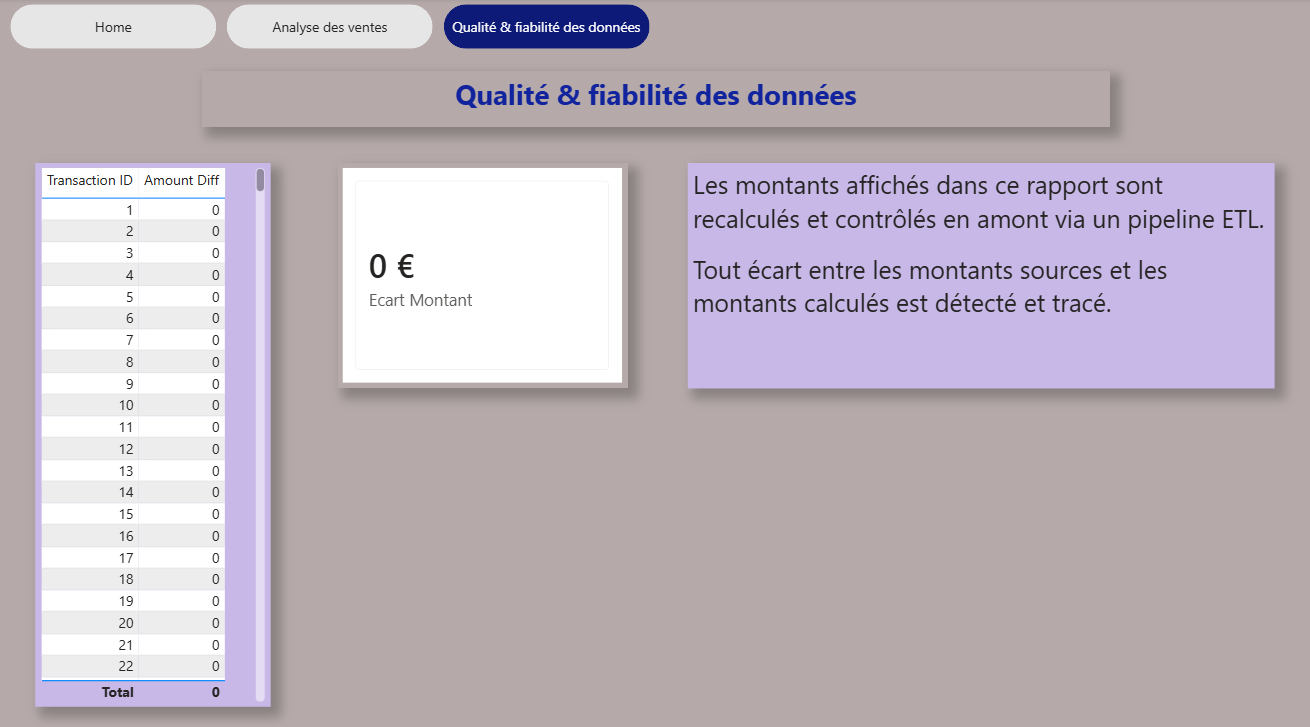

This screenshot's page, from the dashboard's own definition file:
{"tool":"powerbi","page":{"name":"Qualité & fiabilité des données","canvas":[1280,720],"ordinal":2},"visuals":[{"type":"cardVisual","fields":{"Data":["_Measures.Ecart Montant"]},"box":[331.9,159.2,280,217.4],"z":0},{"type":"textbox","box":[670,159.2,566.2,217.4],"z":1000},{"type":"tableEx","fields":{"Values":["fact_sales.transaction_id","Sum(fact_sales.Amount_Diff)"]},"box":[39.8,159.3,226.8,524.8],"z":2000},{"type":"textbox","box":[200.3,70,877.1,54.3],"z":3000},{"type":"pageNavigator","box":[16.1,6.3,617.2,43.8],"z":4000}]}

Visuals, with their boxes in screenshot pixels (x1, y1, x2, y2), scaled from the page's 1280x720 canvas onto the 1310x727 screenshot:
cardVisual - _Measures.Ecart Montant: 340, 161, 626, 380
textbox: 686, 161, 1265, 380
tableEx - fact_sales.transaction_id x Sum(fact_sales.Amount_Diff): 41, 161, 273, 691
textbox: 205, 71, 1103, 126
pageNavigator: 16, 6, 648, 51
